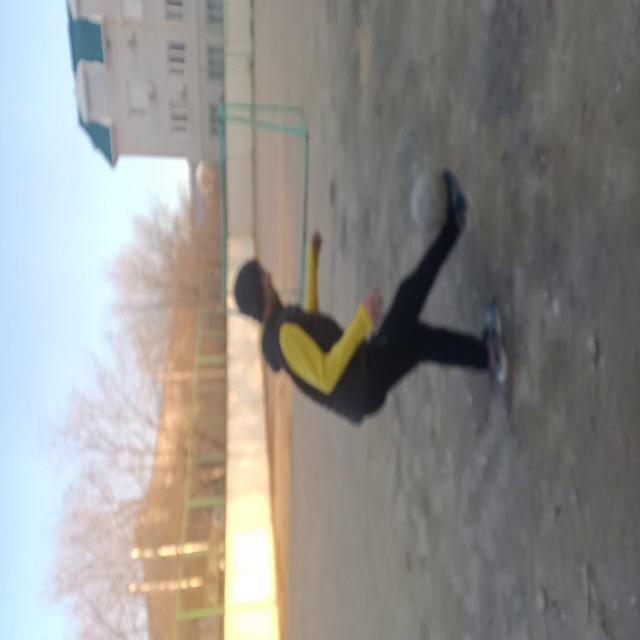ball: (410, 172, 452, 236)
